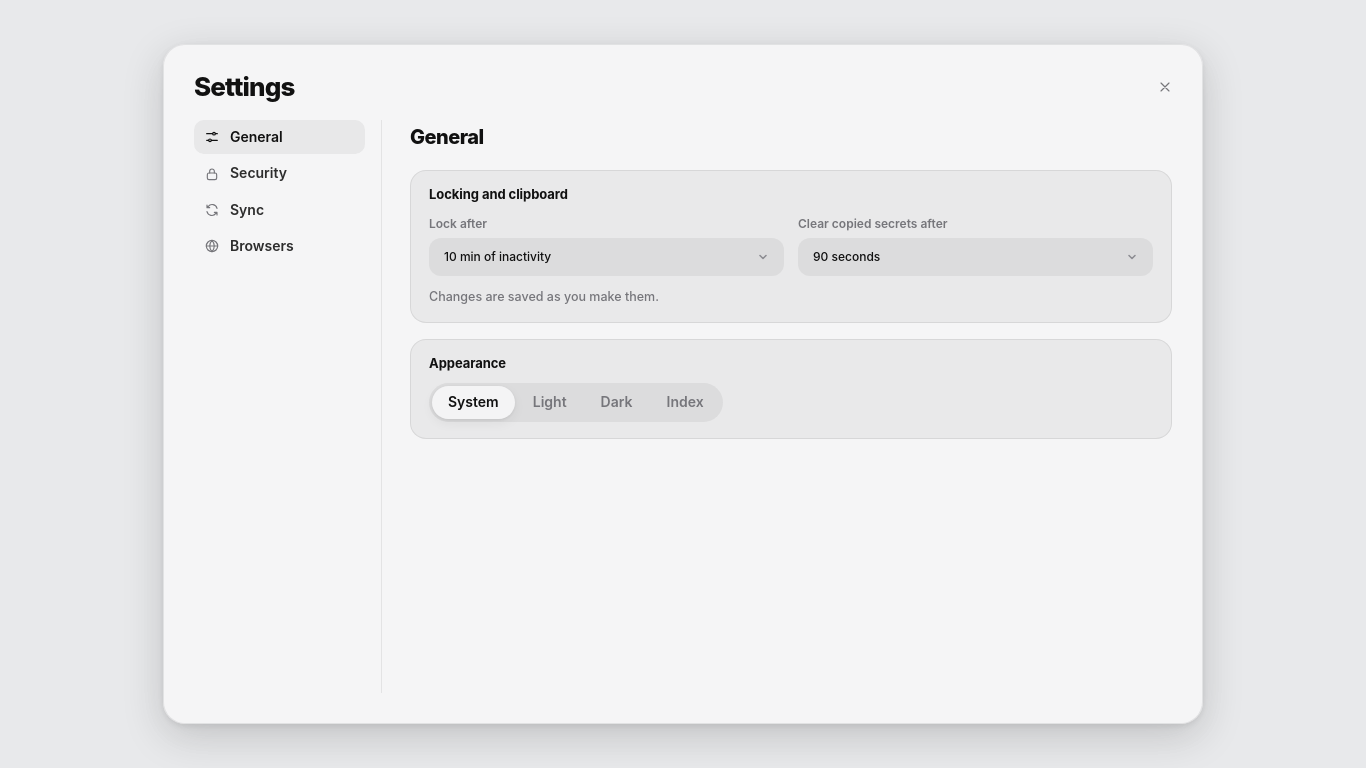
Test: a failed save says so; an older reply does not undo a newer choice
Select "30 min of inactivity" in the dropdown labelled "Lock after" at (606,257), box [429, 238, 784, 276]
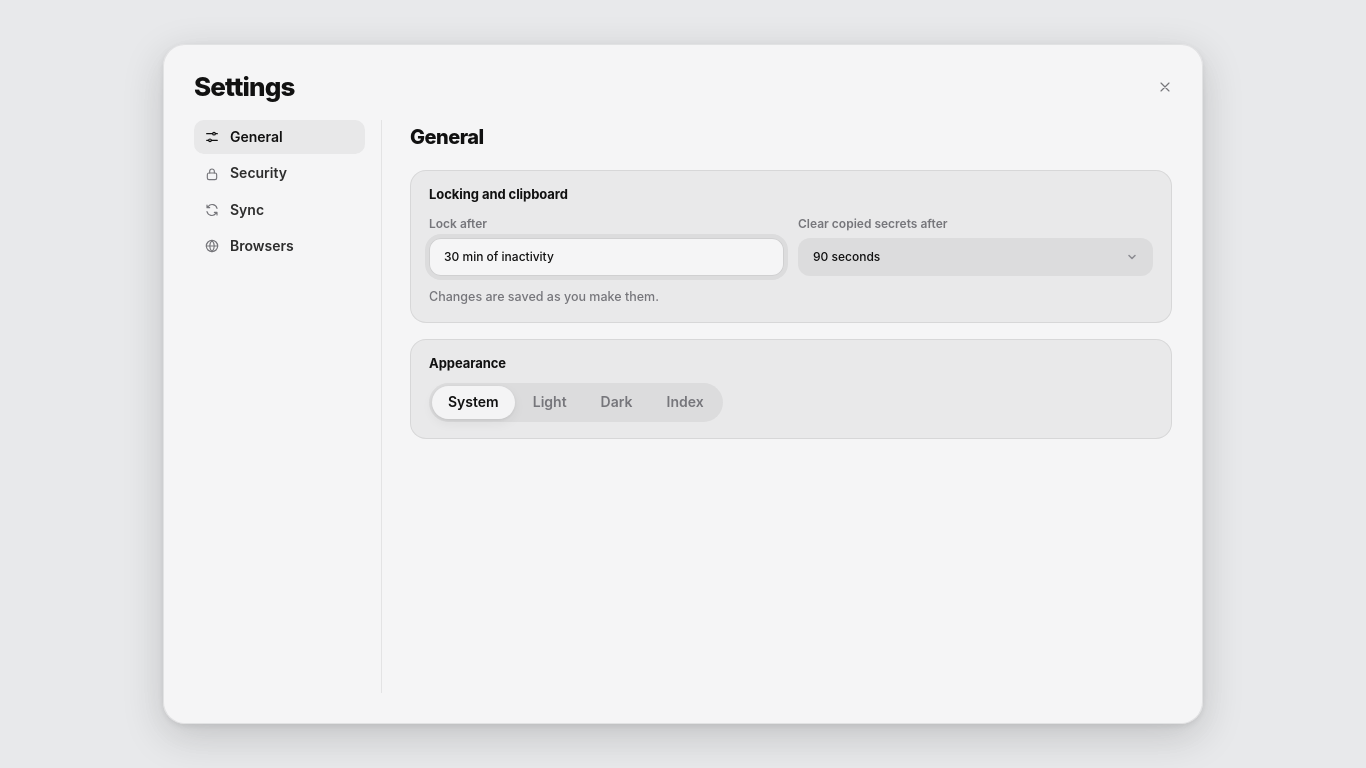
Select "60 min of inactivity" in the dropdown labelled "Lock after" at (606,257), box [429, 238, 784, 276]
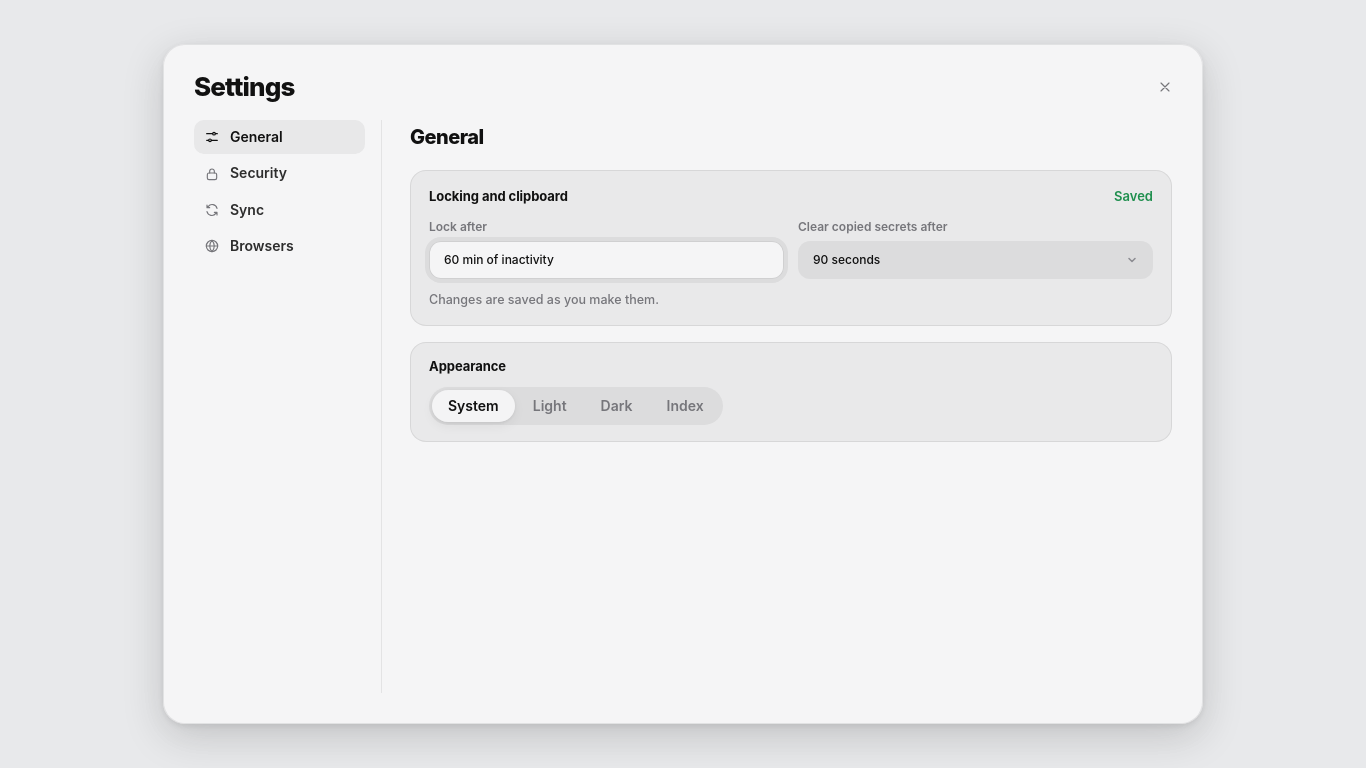
Select "5 min of inactivity" in the dropdown labelled "Lock after" at (606,260), box [429, 241, 784, 279]
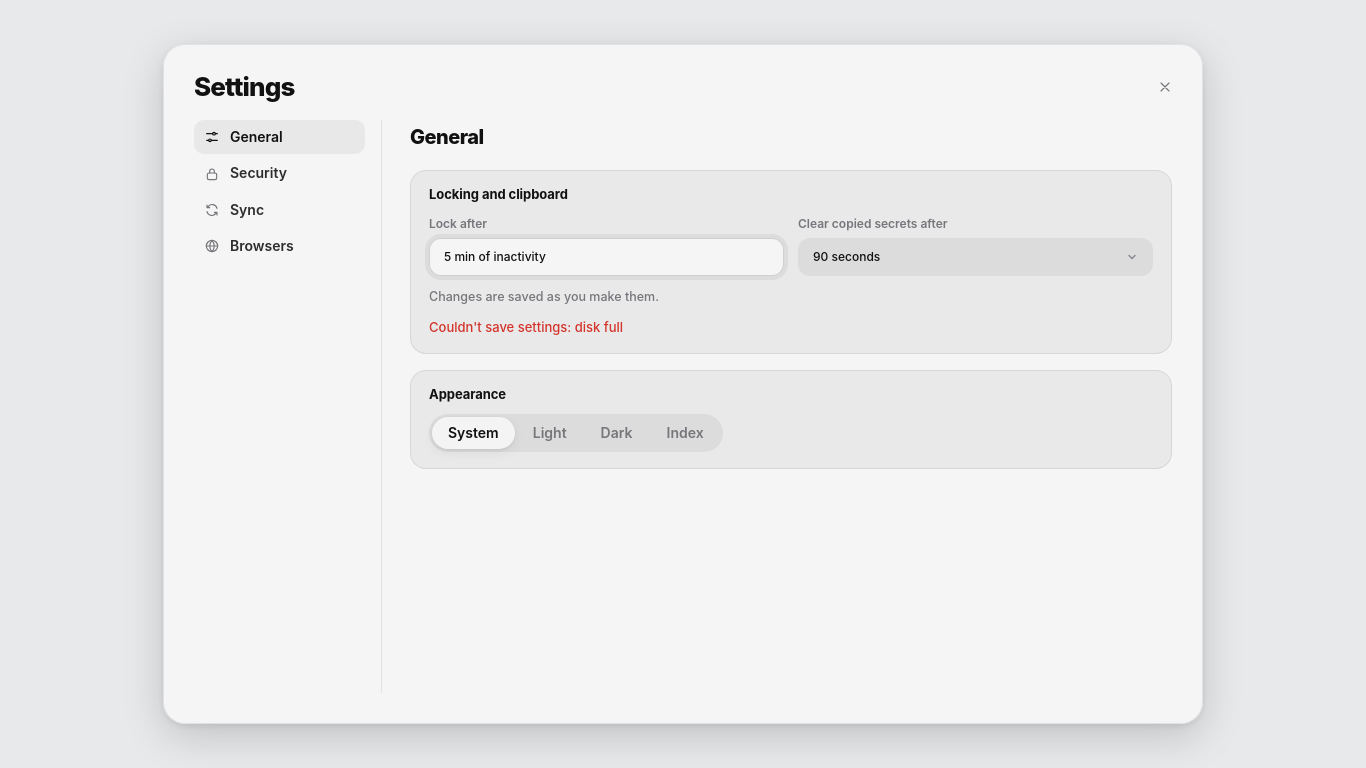
Expected: the message reads "Couldn't save settings: disk full", [429, 319, 623, 335]
